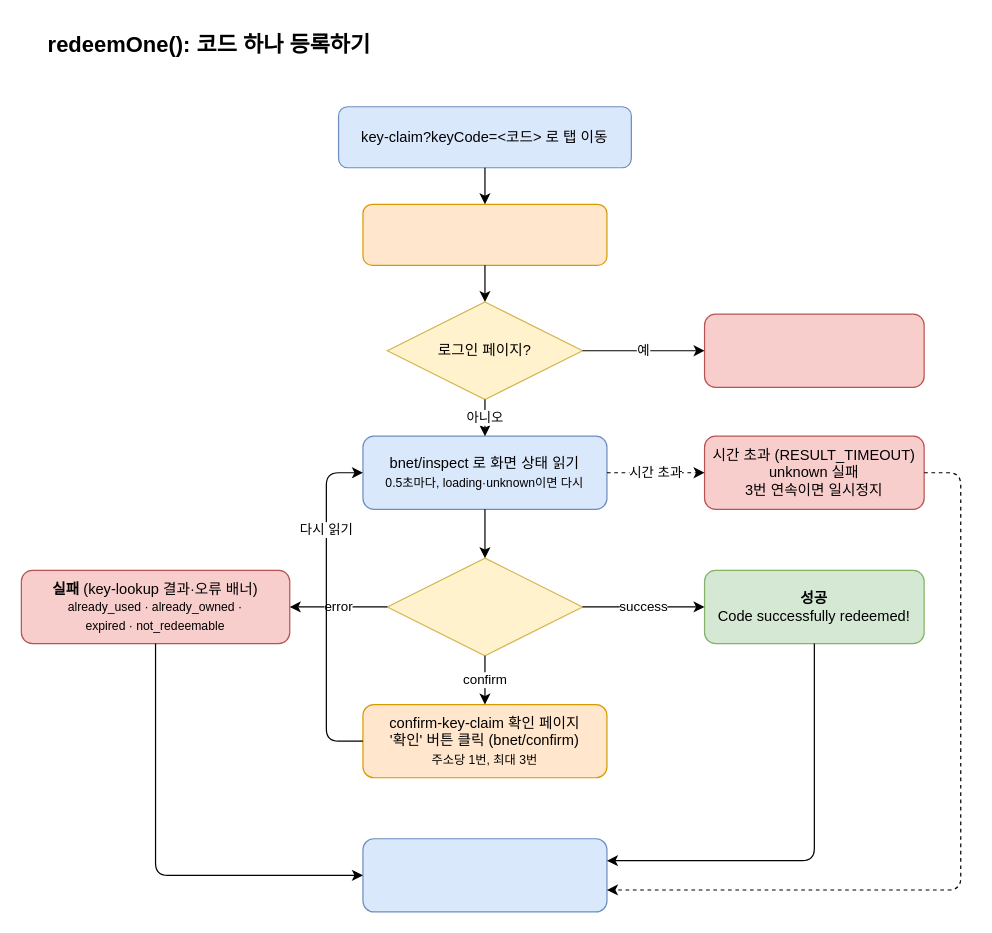
Image size: 992x933. Some labels were removed from this diagram. The centre of each missing label's shape, as x and y in pixels:
"결과 저장 (patchReward) 무작위 간격 뒤 다음 코드" goes at point 484,875.
"자동 리다이렉트 preload/<base64> (자동 POST)" goes at point 484,234.
"작업 일시정지 (Battle.net 로그인 필요)" goes at point 813,350.
"화면 상태" goes at point 484,606.
